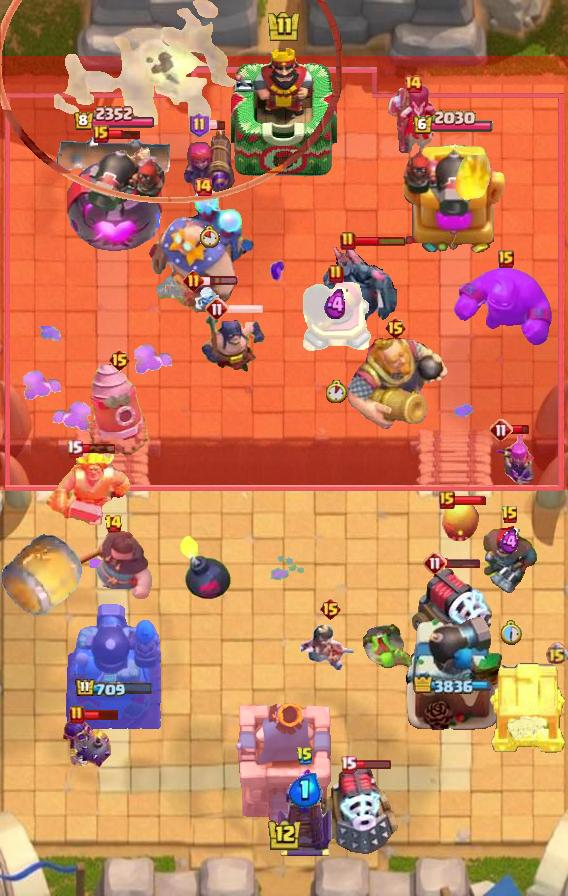baby-dragon: (178, 533, 232, 601)
bar-level: (362, 623, 416, 671)
bomb: (488, 660, 568, 754)
clone: (452, 266, 560, 348)
dirt: (0, 531, 84, 619)
electro-spirit: (289, 772, 322, 807), (324, 289, 348, 321), (500, 529, 520, 555)
elixir: (498, 619, 521, 644), (325, 380, 346, 404), (200, 224, 220, 248)
emote: (353, 235, 406, 247), (83, 707, 120, 721), (201, 275, 239, 287), (228, 303, 265, 315), (445, 557, 481, 569), (80, 442, 115, 454), (356, 759, 393, 770), (106, 129, 142, 140), (453, 495, 487, 506), (207, 120, 226, 132), (510, 425, 530, 436)
evolution-symbol: (496, 429, 542, 499)
giant-skeleton: (341, 336, 449, 432)
goblin-ball: (59, 716, 113, 772)
goblin-hut: (44, 453, 130, 525)
golem: (411, 566, 497, 656), (317, 764, 401, 854)
golemite: (323, 242, 397, 330)
heal-spirit: (192, 278, 226, 322)
hog: (440, 499, 480, 543)
ice-spirit-evolution-symbol: (275, 766, 335, 858)
king-tower: (231, 43, 337, 181), (235, 703, 333, 826)
little-prince: (149, 188, 257, 314)
magic-archer: (86, 360, 152, 458)
mega-minion: (184, 126, 236, 198)
minion: (52, 135, 174, 179)
monk: (199, 305, 267, 375)
phoenix-small: (480, 525, 540, 597)
rascal-boy: (384, 83, 442, 155)
royal-ghost: (0, 0, 342, 203)
royal-hog: (70, 528, 156, 600)
royal-recruit: (300, 282, 372, 356)
selected: (72, 106, 155, 132), (412, 110, 494, 136), (74, 677, 154, 699), (413, 678, 493, 694)
skeleton-dragon: (299, 625, 361, 677)
text: (205, 297, 229, 321), (489, 418, 513, 442), (423, 551, 447, 575), (384, 316, 407, 340), (109, 348, 132, 372), (319, 597, 342, 621), (190, 112, 211, 138), (544, 643, 567, 666), (183, 269, 204, 291), (403, 74, 423, 94), (193, 177, 213, 197), (104, 514, 123, 534), (501, 505, 519, 525), (296, 746, 314, 766), (339, 755, 357, 774), (340, 231, 356, 251), (328, 264, 344, 284), (69, 705, 85, 725), (66, 439, 83, 457), (93, 125, 109, 143), (498, 250, 514, 268), (439, 491, 455, 509)
tower-bar: (64, 601, 164, 731), (399, 138, 507, 256), (63, 136, 165, 256), (402, 615, 504, 731)
valkyrie: (454, 155, 494, 203)
